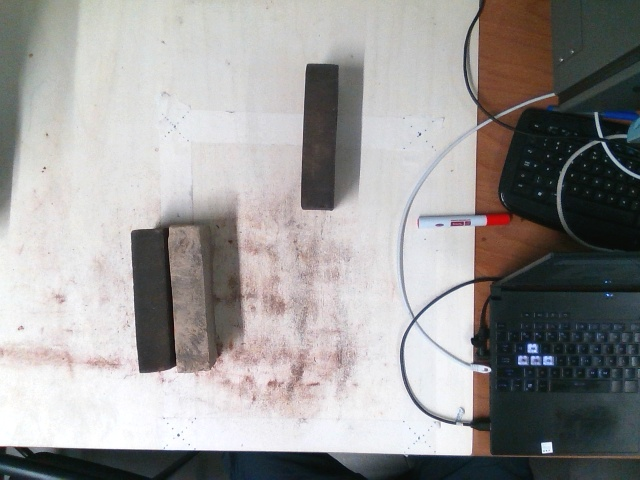brick-side: (128, 226, 168, 369), (168, 228, 207, 371), (302, 64, 335, 209)
